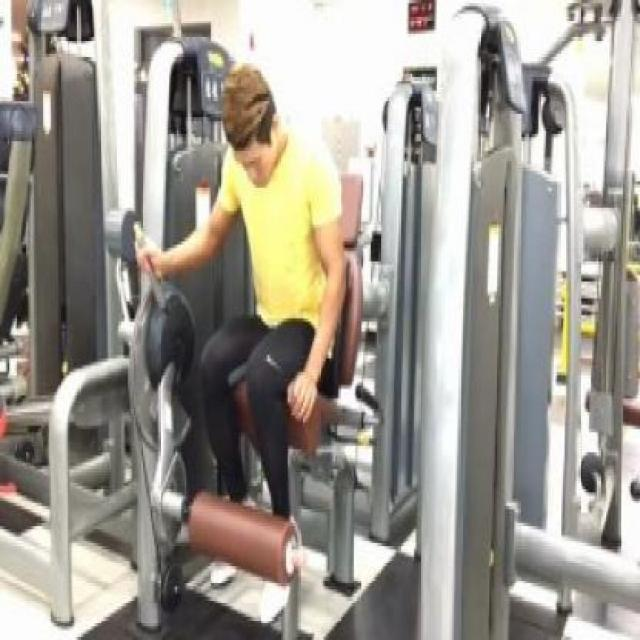leg extension: (78, 18, 434, 640)
